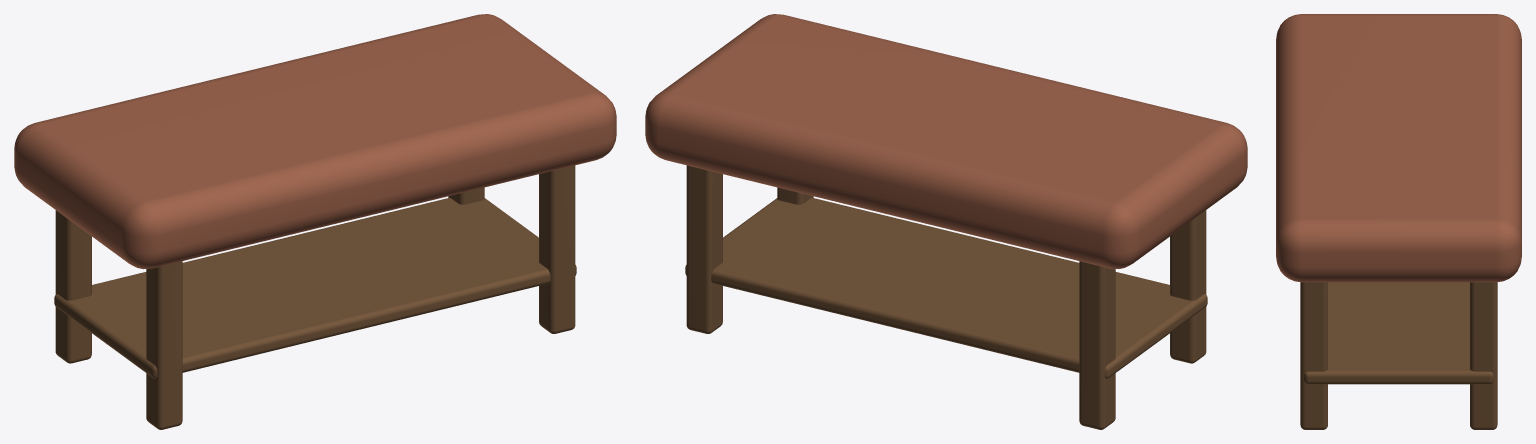
File: bench.glb
The picture shows the model from 3 angles, left to right: view 1: azimuth 30°, elevation 25°; view 2: azimuth 150°, elevation 25°; view 3: azimuth 270°, elevation 25°; orthographic projection. The views are drawn at different scales.
Parts seen in each view (by area): view 1: Padded bench seat, Lower bench shelf, Oak bench leg.001, Oak bench leg.003, Oak bench leg; view 2: Padded bench seat, Lower bench shelf, Oak bench leg, Oak bench leg.002, Oak bench leg.001; view 3: Padded bench seat, Lower bench shelf, Oak bench leg.002, Oak bench leg.003.
Boxes of the visible parts, bbox=[...] form: Padded bench seat: bbox=[14, 14, 616, 269]; Lower bench shelf: bbox=[54, 197, 576, 378]; Oak bench leg.001: bbox=[146, 261, 182, 429]; Oak bench leg.003: bbox=[539, 165, 575, 333]; Oak bench leg: bbox=[55, 210, 91, 363]; Padded bench seat: bbox=[645, 14, 1247, 268]; Lower bench shelf: bbox=[685, 197, 1207, 378]; Oak bench leg: bbox=[1079, 261, 1115, 429]; Oak bench leg.002: bbox=[686, 165, 722, 333]; Oak bench leg.001: bbox=[1170, 210, 1206, 363]; Padded bench seat: bbox=[1276, 14, 1521, 282]; Lower bench shelf: bbox=[1304, 282, 1493, 384]; Oak bench leg.002: bbox=[1470, 282, 1497, 429]; Oak bench leg.003: bbox=[1300, 282, 1327, 429].
Bounding box in the file's own units: 1.25 × 0.57 × 0.58.
